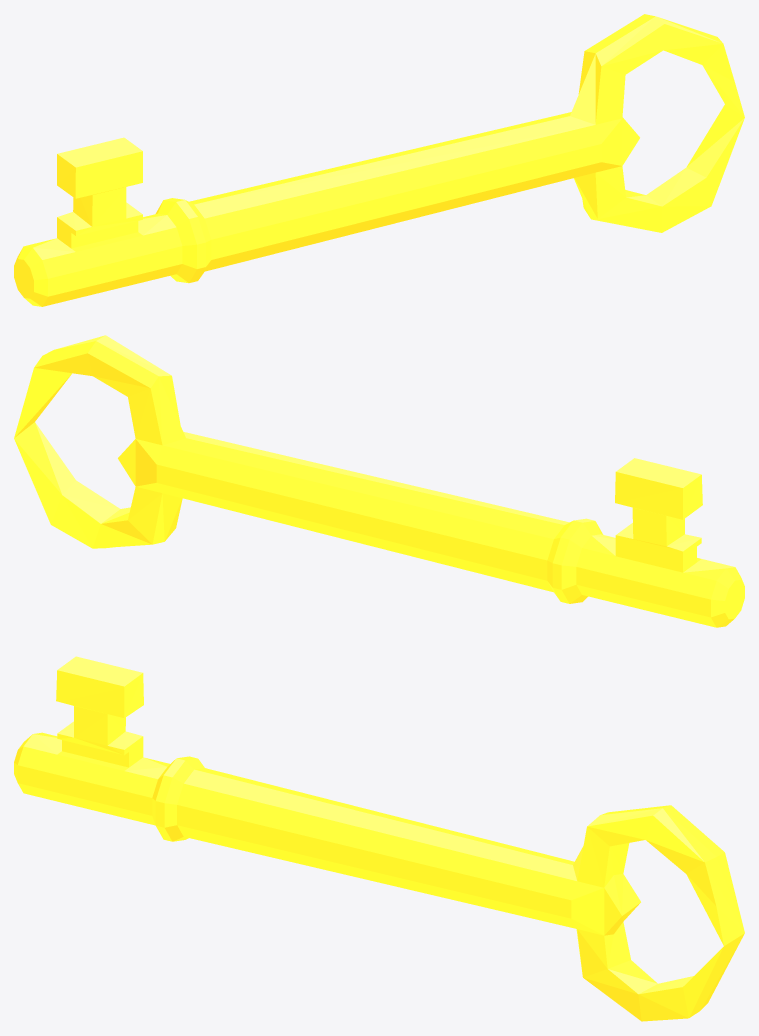
The model's file is key1.glb.
3 views of the same model, one above another, from view 1: azimuth 30°, elevation 25°; view 2: azimuth 150°, elevation 25°; view 3: azimuth 330°, elevation 25° (orthographic).
Parts seen in each view (by area): view 1: node_MeshObject-731313152-PolyPaper21; view 2: node_MeshObject-731313152-PolyPaper21; view 3: node_MeshObject-731313152-PolyPaper21.
Part boxes in pixels (bbox=[...]): node_MeshObject-731313152-PolyPaper21: bbox=[14, 14, 744, 306]; node_MeshObject-731313152-PolyPaper21: bbox=[14, 335, 744, 627]; node_MeshObject-731313152-PolyPaper21: bbox=[14, 656, 744, 1021].
Bounding box in the file's own units: 5 × 1.42 × 0.5077.
